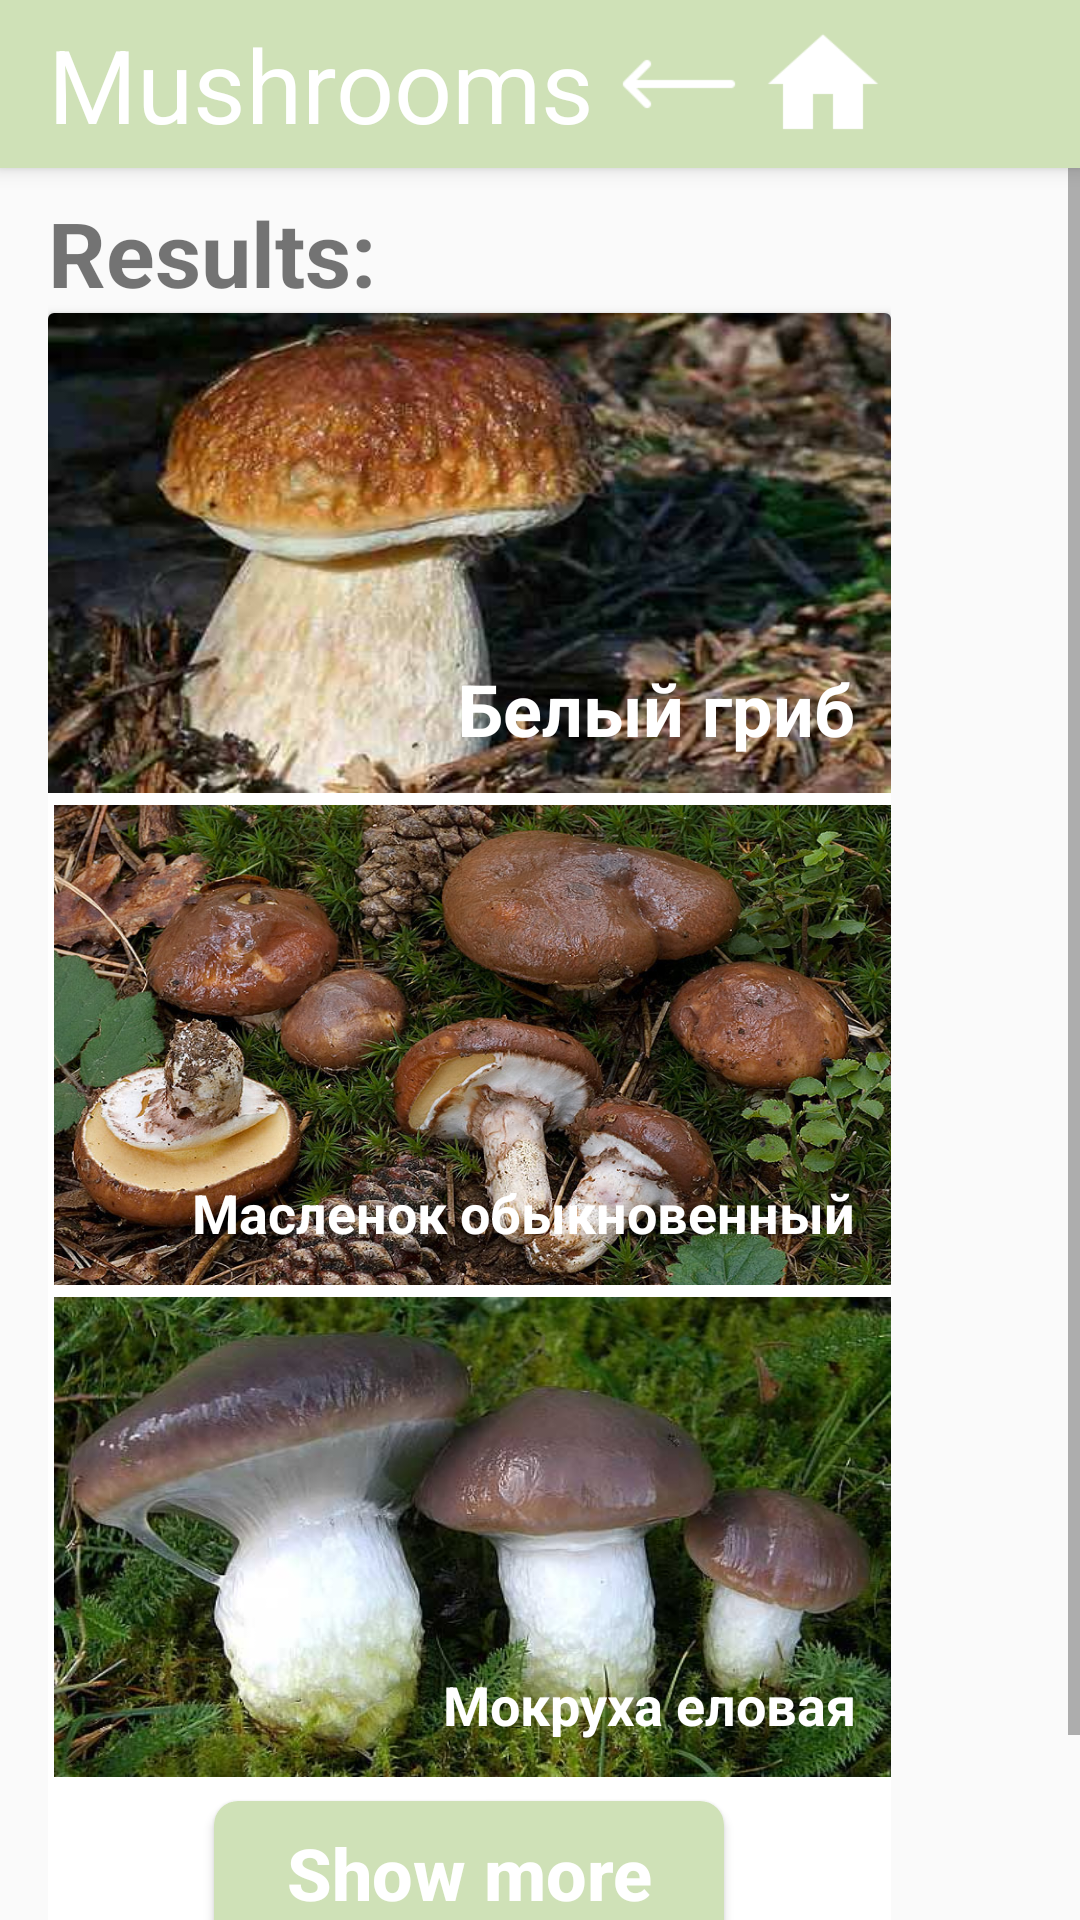

Icon click points for this 1080 x 1920 phone screenshot, format point (x, y):
home: point (823, 82)
long arrow left: point (679, 84)
